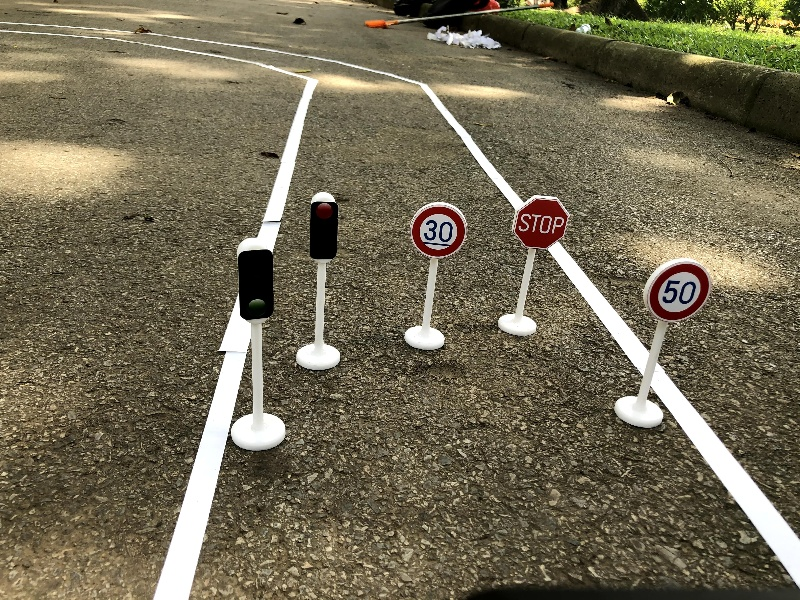Bien_bao_30: (401, 194, 470, 364)
Bien_bao_50: (605, 249, 716, 443)
Den_Do: (296, 189, 352, 379)
Den_Xanh: (206, 229, 289, 466)
Stop: (496, 183, 573, 348)
